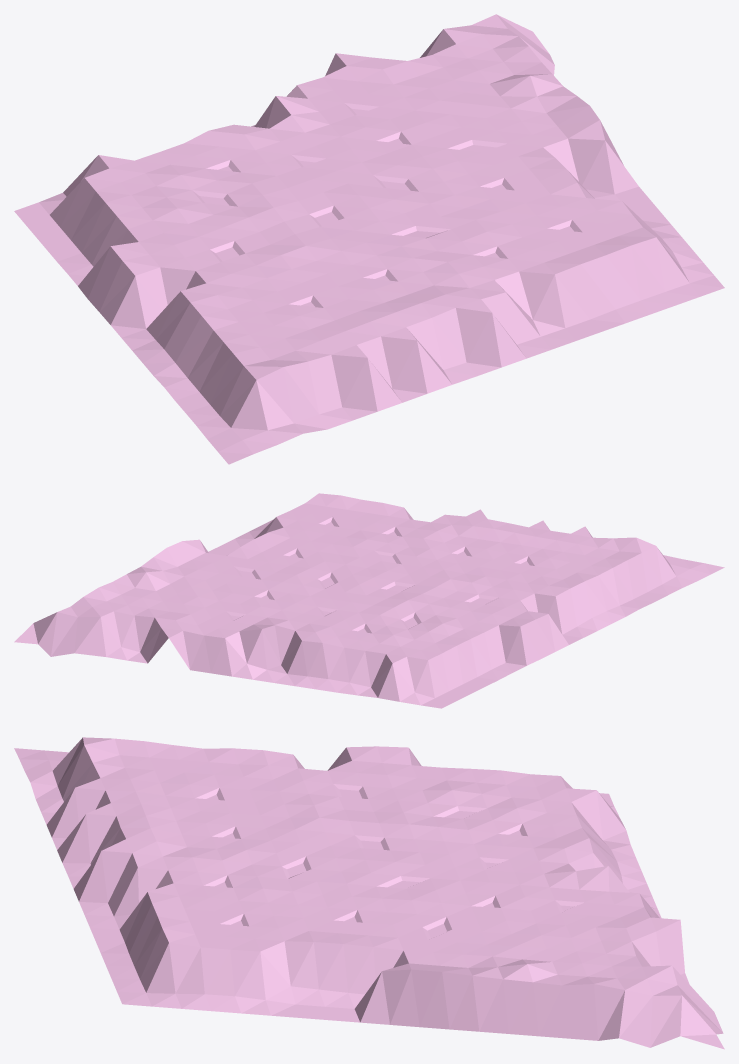
Rendered from waterland33.fbx.
3 renders of one model, top to bottom at view 1: azimuth 30°, elevation 25°; view 2: azimuth 150°, elevation 25°; view 3: azimuth 270°, elevation 25°, orthographic. The views are drawn at different scales.
Parts seen in each view (by area): view 1: PM3D_waterland_2obj; view 2: PM3D_waterland_2obj; view 3: PM3D_waterland_2obj.
Part boxes in pixels (x1,y1,x2,y2): PM3D_waterland_2obj: [14, 14, 724, 464]; PM3D_waterland_2obj: [14, 493, 724, 708]; PM3D_waterland_2obj: [14, 737, 724, 1049].
Bounding box in the file's own units: 31.13 × 2.54 × 30.6.
